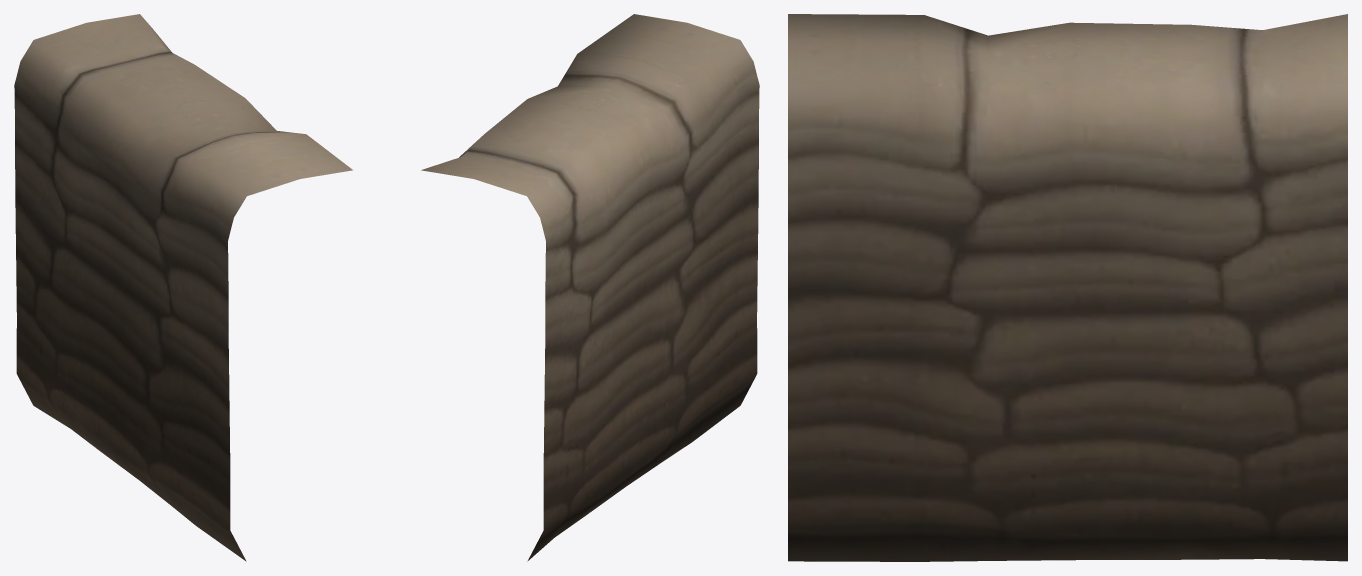
The picture shows the model from 3 angles, left to right: view 1: azimuth 30°, elevation 25°; view 2: azimuth 150°, elevation 25°; view 3: azimuth 270°, elevation 25°; orthographic projection. The views are drawn at different scales.
Parts seen in each view (by area): view 1: body0_model0_lod0_mesh0; view 2: body0_model0_lod0_mesh0; view 3: body0_model0_lod0_mesh0.
Part boxes in pixels (left/top/right/bottom): body0_model0_lod0_mesh0: left=14, top=14, right=352, bottom=561; body0_model0_lod0_mesh0: left=421, top=14, right=759, bottom=561; body0_model0_lod0_mesh0: left=788, top=14, right=1347, bottom=561.
Bounding box in the file's own units: 25.38 × 61.62 × 64.
Materials: 1 (1 with a texture image).
